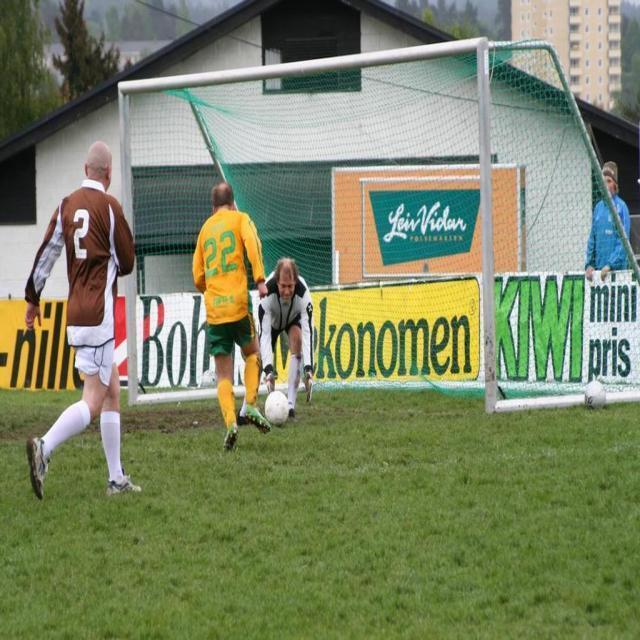ball: (264, 389, 289, 426)
